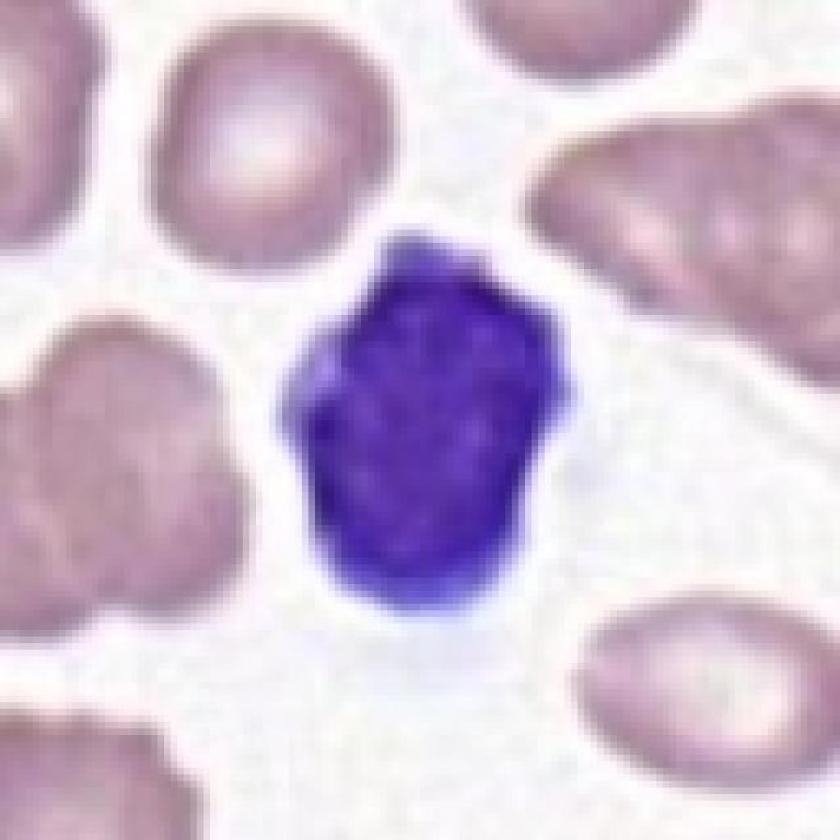lymphocyte: (274, 227, 580, 630)
